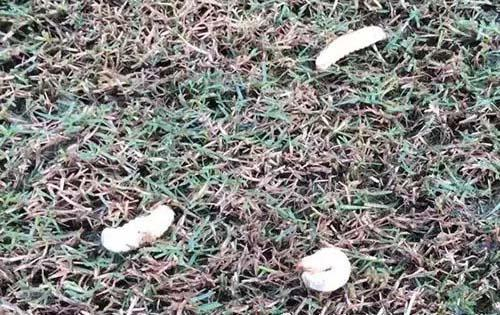grub: (299, 238, 354, 297)
